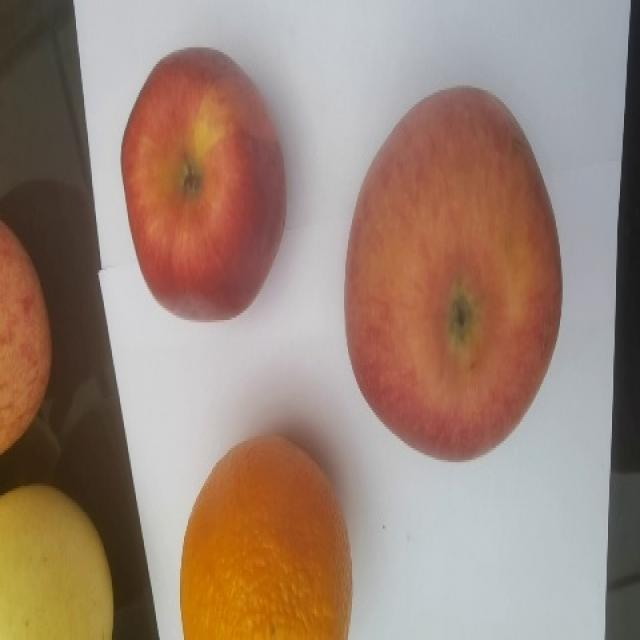Apple: (344, 84, 566, 465), (119, 46, 292, 328), (0, 218, 56, 452)
Orange: (177, 432, 356, 640)
